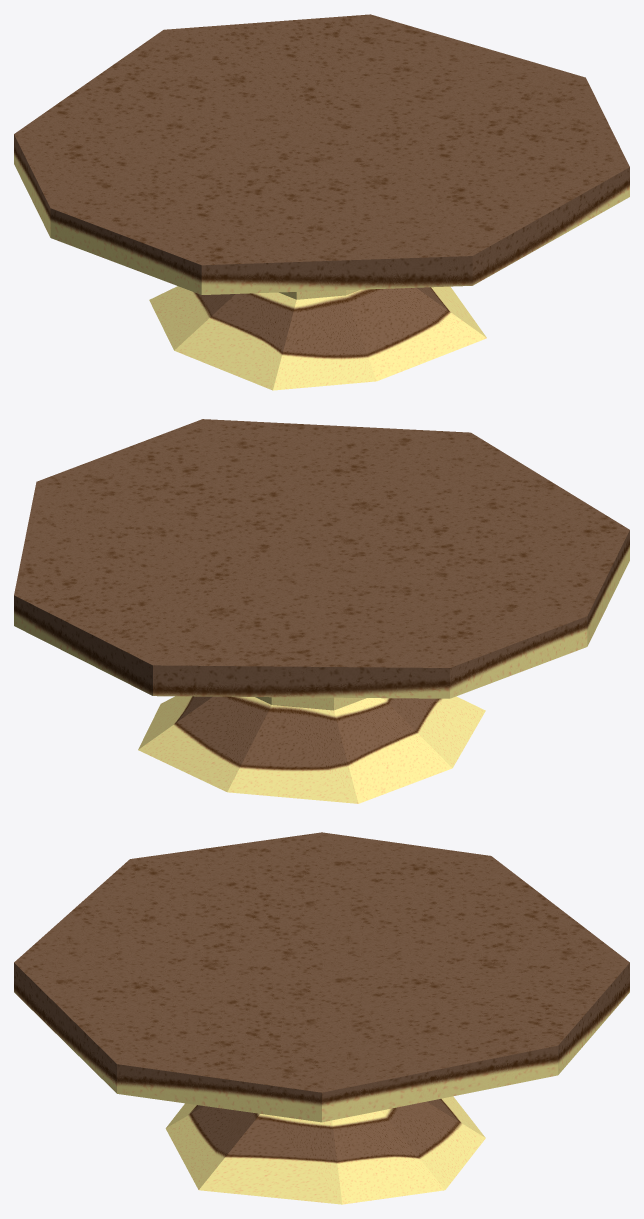
File: SM_HighIsland.fbx
The picture shows the model from 3 angles, top to bottom: view 1: azimuth 30°, elevation 25°; view 2: azimuth 150°, elevation 25°; view 3: azimuth 270°, elevation 25°; orthographic projection. The views are drawn at different scales.
Visible parts, largest first — view 1: HighIsland; view 2: HighIsland; view 3: HighIsland.
Boxes of the visible parts, bbox=[...] form: HighIsland: bbox=[14, 14, 629, 390]; HighIsland: bbox=[14, 419, 629, 803]; HighIsland: bbox=[14, 832, 629, 1204].
Size of the model in its own units: 13007 by 4092 by 13007.
